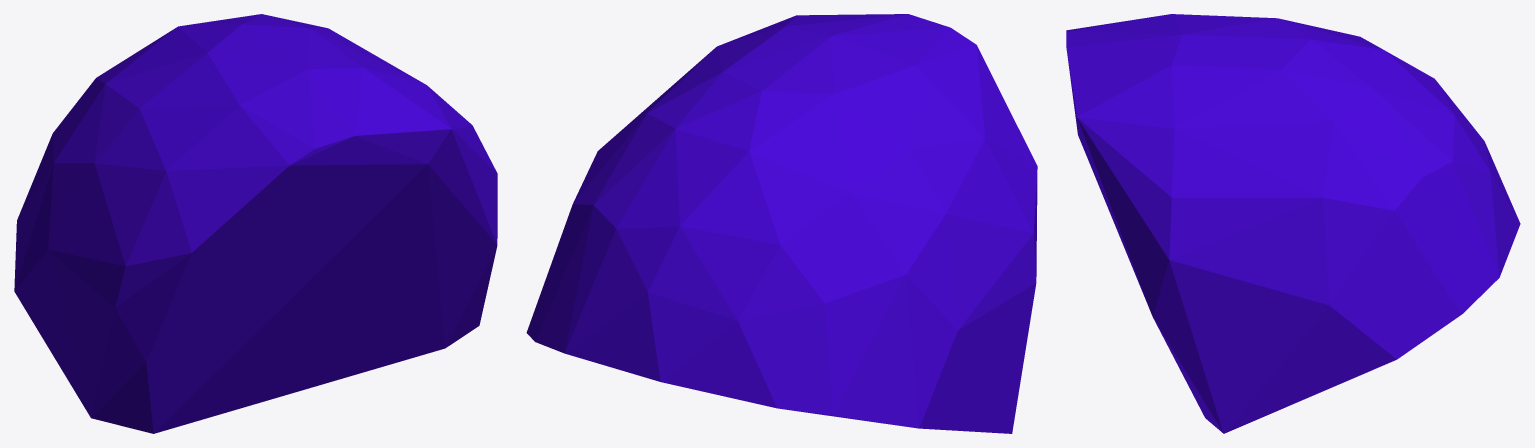
Rendered from arm-L2_convex_piece_006.obj.
The picture shows the model from 3 angles, left to right: view 1: azimuth 30°, elevation 25°; view 2: azimuth 150°, elevation 25°; view 3: azimuth 270°, elevation 25°; orthographic projection. The views are drawn at different scales.
Size of the model in its own units: 0.0813 by 0.0669 by 0.0855.
